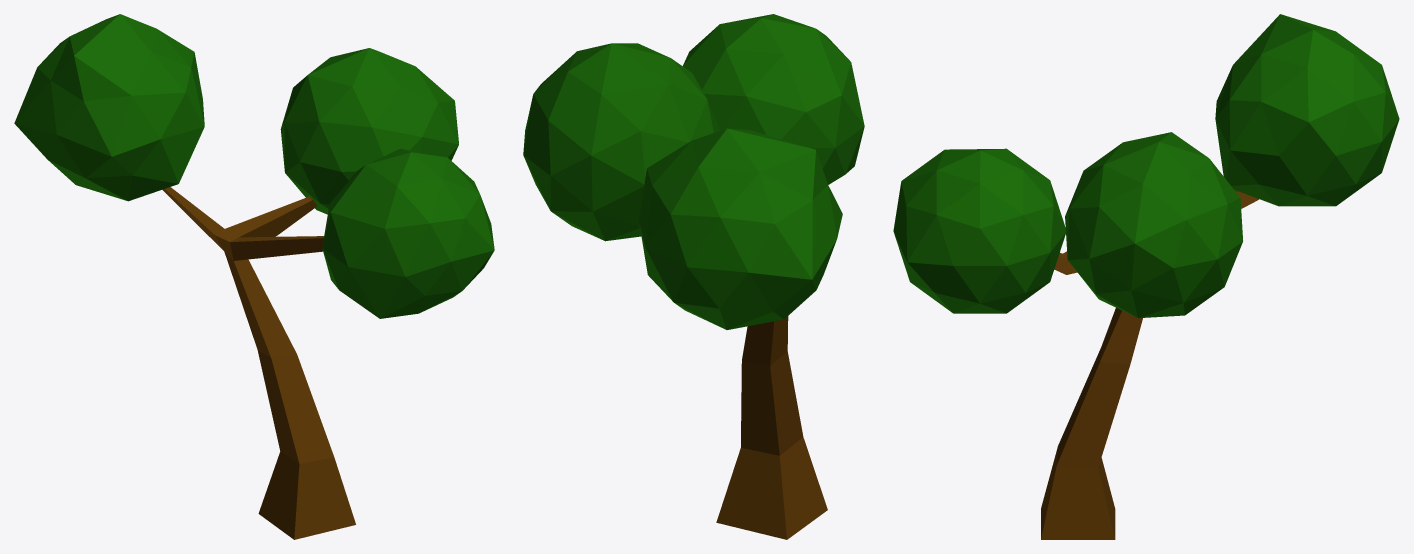
3 renders of one model, left to right at view 1: azimuth 30°, elevation 25°; view 2: azimuth 150°, elevation 25°; view 3: azimuth 270°, elevation 25°, orthographic. The views are drawn at different scales.
Visible parts, largest first — view 1: Cube; view 2: Cube; view 3: Cube.
Part boxes in pixels (box(x1,y1,x2,y2)): Cube: box(14, 14, 494, 539); Cube: box(523, 14, 864, 539); Cube: box(893, 14, 1399, 539).
Size of the model in its own units: 1094 by 1358 by 1363.
